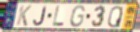3: (91, 5, 106, 29)
G: (69, 5, 86, 28)
J: (32, 5, 48, 27)
K: (16, 4, 33, 27)
L: (51, 5, 65, 28)
Q: (107, 6, 124, 29)
